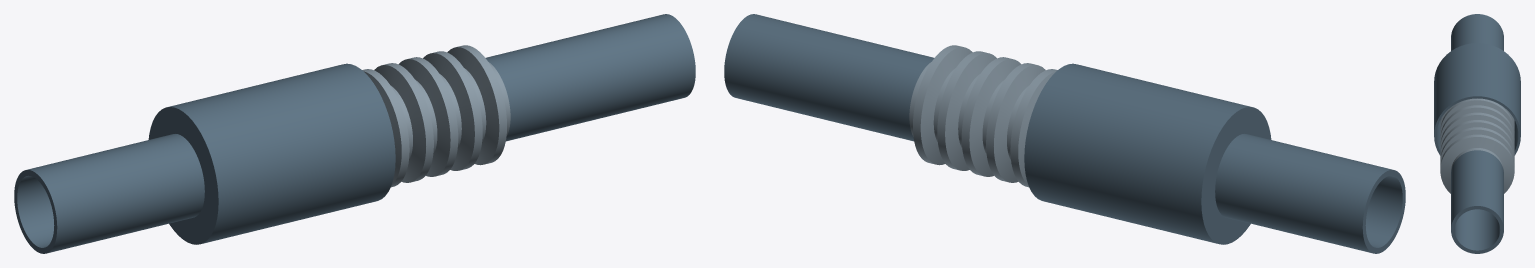
Rendered from silf-dn32-L363-D42_4-k.glb.
3 renders of one model, left to right at view 1: azimuth 30°, elevation 25°; view 2: azimuth 150°, elevation 25°; view 3: azimuth 270°, elevation 25°, orthographic. The views are drawn at different scales.
Visible parts, largest first — view 1: osnovanie_kozhuh_1, patrubok_2, patrubok_1, prokladka_silfon_1; view 2: osnovanie_kozhuh_1, patrubok_2, patrubok_1, prokladka_silfon_1; view 3: osnovanie_kozhuh_1, patrubok_2, prokladka_silfon_1, patrubok_1.
Part boxes in pixels (box(x1,y1,x2,y2)): osnovanie_kozhuh_1: box(148, 63, 395, 244); patrubok_2: box(485, 14, 695, 141); patrubok_1: box(14, 134, 204, 253); prokladka_silfon_1: box(362, 45, 510, 187); osnovanie_kozhuh_1: box(1024, 63, 1271, 244); patrubok_2: box(724, 14, 934, 141); patrubok_1: box(1215, 134, 1405, 253); prokladka_silfon_1: box(909, 45, 1057, 187); osnovanie_kozhuh_1: box(1434, 43, 1520, 155); patrubok_2: box(1451, 150, 1503, 253); prokladka_silfon_1: box(1440, 98, 1514, 193); patrubok_1: box(1451, 14, 1503, 50).
Size of the model in its own units: 363 by 69.49 by 69.49.
